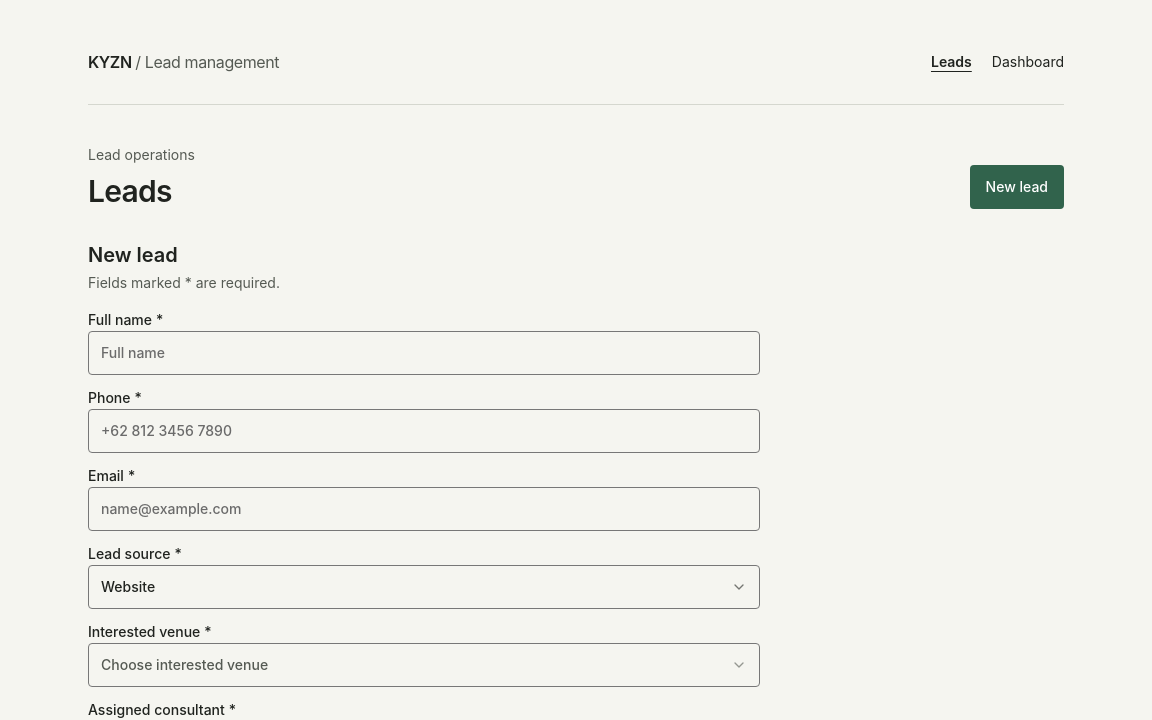
Test: lead forms › shows shared schema feedback and blocks an invalid submission
Expected: the text "Fields marked * are required." is shown, [88,274,280,291]
Expected: the dropdown labelled "interested venue" is shown, [88,643,760,687]
In the field labelled "Full name *": x=424, y=353 [88,331,760,375], type "Rani Putri"
In the field labelled "Phone *": x=424, y=431 [88,409,760,453], type "invalid"
In the field labelled "Email *": x=424, y=509 [88,487,760,531], type "rani@example.com"
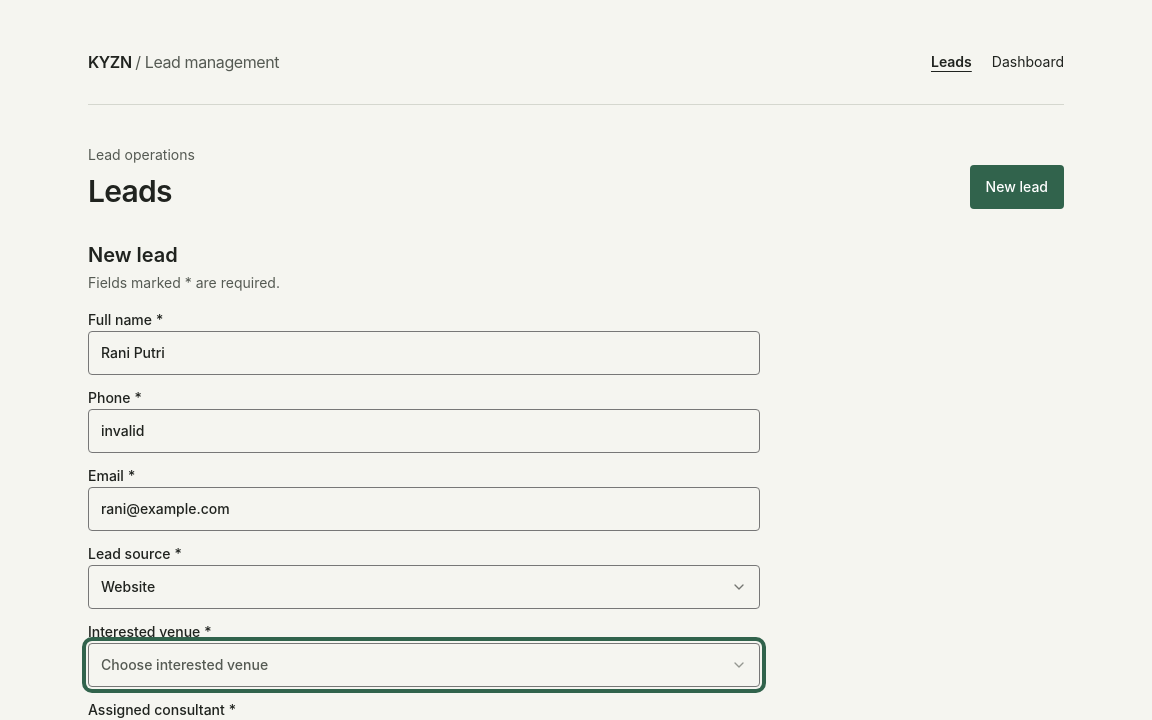
Press ArrowDown in the dropdown labelled "interested venue", box [88,643,760,687]
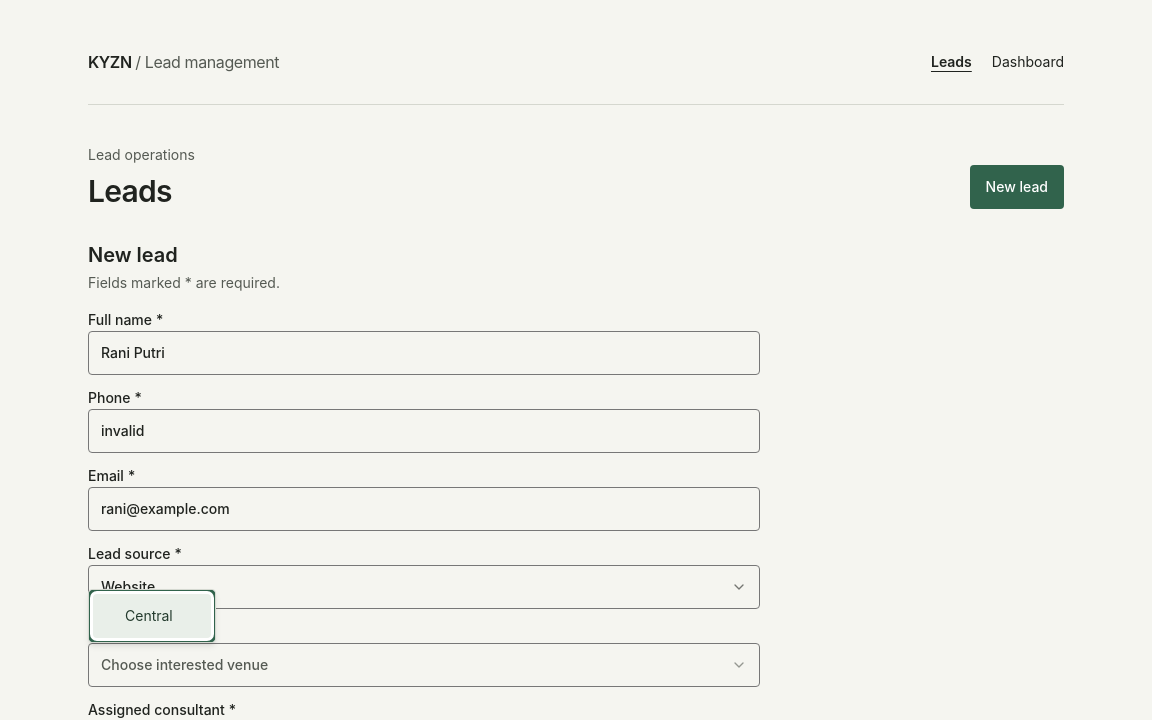
Press Enter in the option "Central", box [93,594,211,638]
(page scrolled)
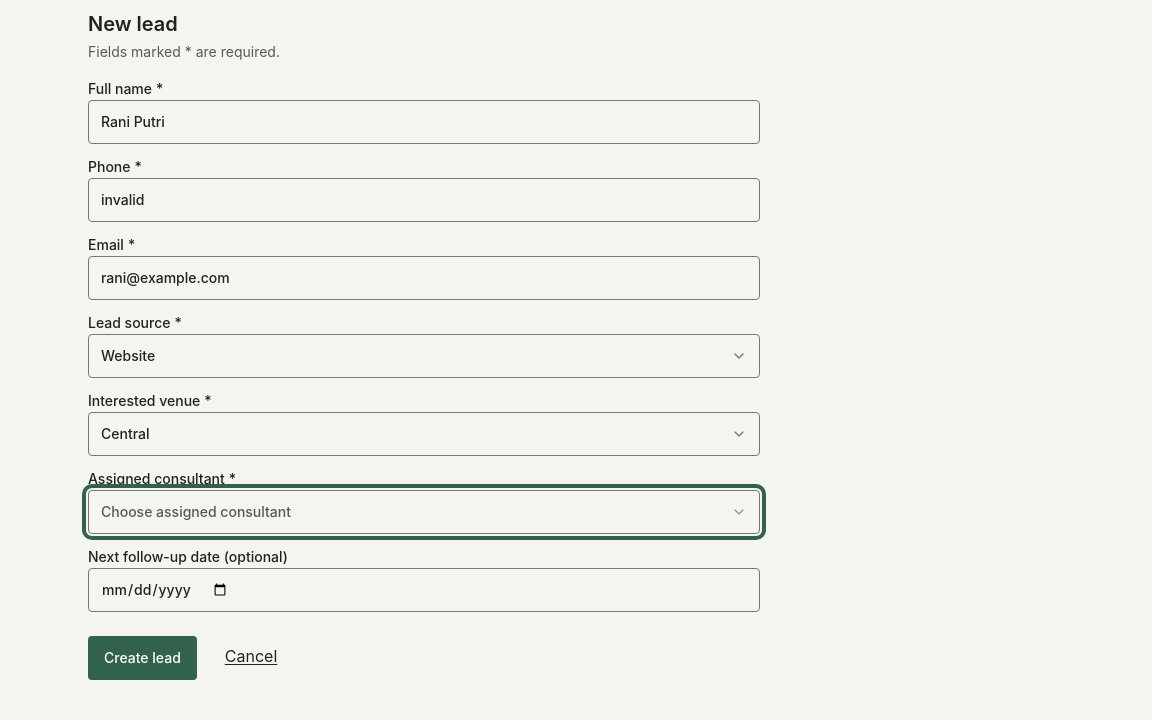
Press ArrowDown in the dropdown labelled "assigned consultant", box [88,490,760,534]
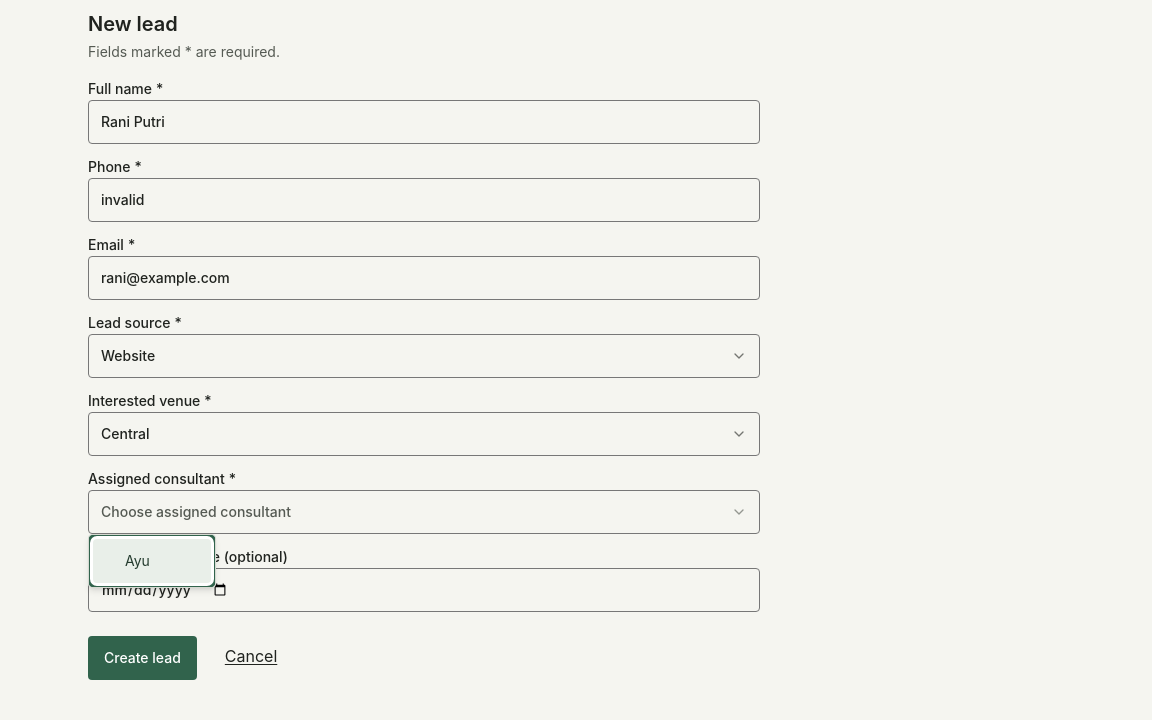
Press Enter in the option "Ayu", box [93,539,211,583]
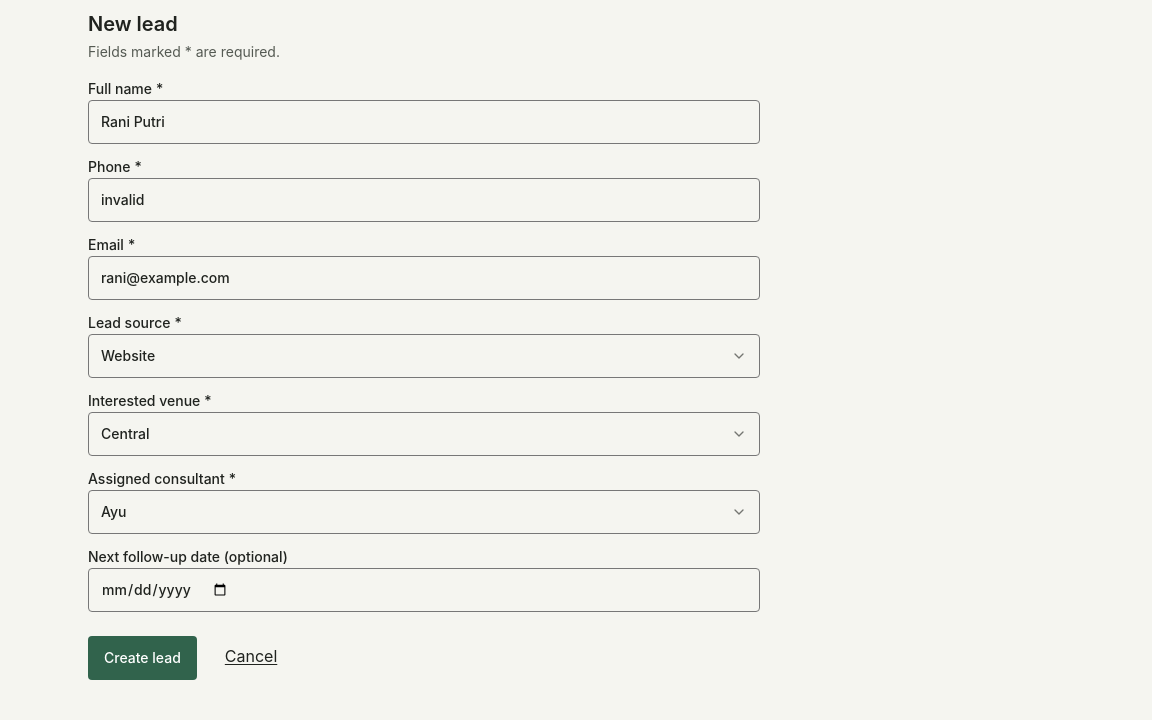
Click the button "Create lead": x=142, y=658 [88,636,197,680]
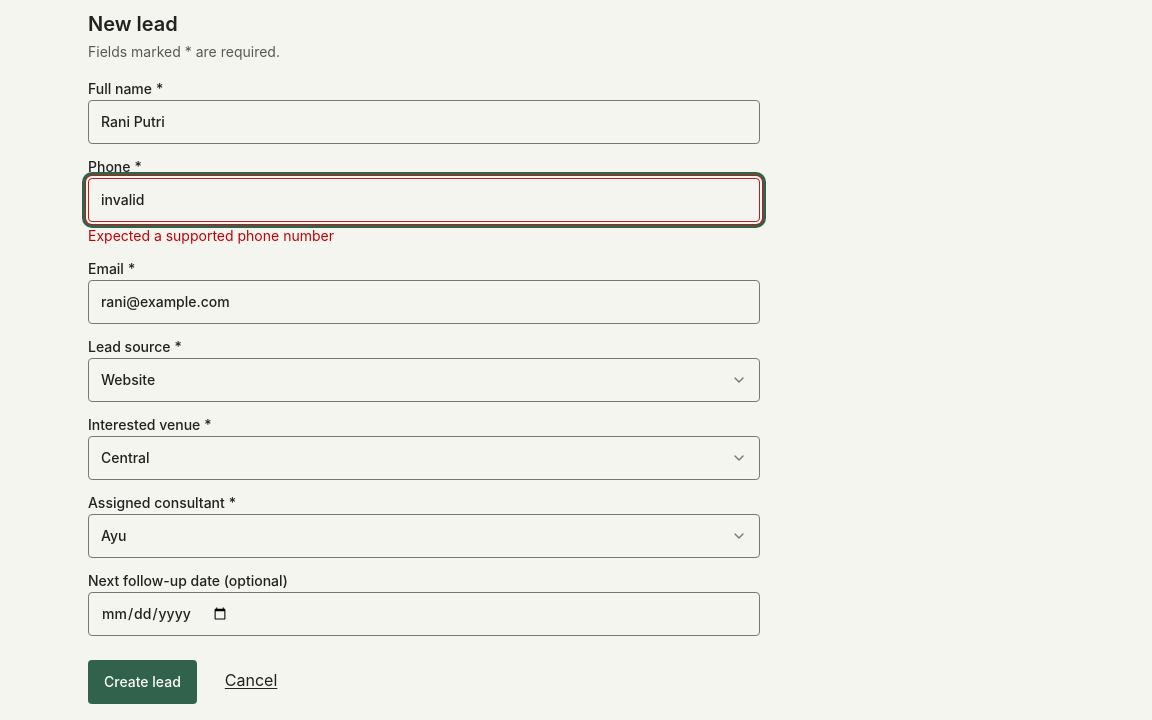
Expected: the text "Expected a supported phone number" is shown, [88,227,334,244]
